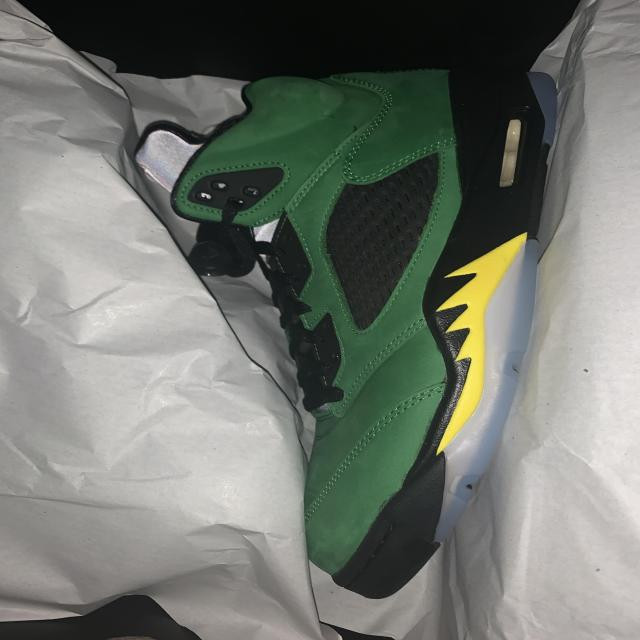shoe: (132, 58, 570, 602)
